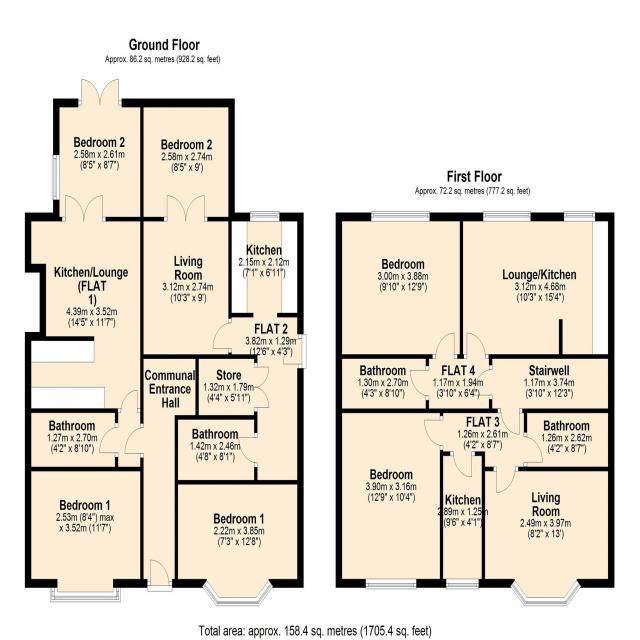DOOR: (147, 559, 173, 592), (283, 334, 307, 369), (237, 431, 258, 468), (472, 364, 493, 400), (423, 414, 443, 451), (493, 466, 519, 494), (497, 408, 523, 436), (523, 432, 543, 468), (409, 365, 429, 401), (212, 317, 232, 353), (449, 451, 475, 478), (432, 332, 458, 359), (463, 332, 489, 359), (124, 423, 144, 458), (99, 422, 118, 458), (117, 389, 141, 413)
DOUBLE DOOR: (77, 77, 122, 108), (163, 193, 208, 222), (61, 194, 106, 222), (254, 362, 270, 412)
ROOM: (24, 194, 144, 414), (459, 210, 615, 359), (335, 408, 444, 590), (335, 211, 463, 359), (481, 466, 615, 607), (174, 479, 304, 607), (24, 466, 144, 603), (139, 194, 233, 360), (51, 77, 144, 222), (140, 98, 235, 222), (228, 210, 304, 318), (439, 451, 486, 590)
WINDOW: (509, 579, 582, 607), (202, 579, 274, 607), (49, 587, 121, 603), (371, 210, 430, 222), (365, 578, 417, 590), (483, 210, 531, 222), (51, 154, 60, 201), (445, 578, 480, 590), (563, 211, 596, 222), (250, 211, 280, 222)
